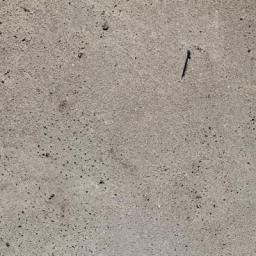FOD: (180, 51, 194, 87)
